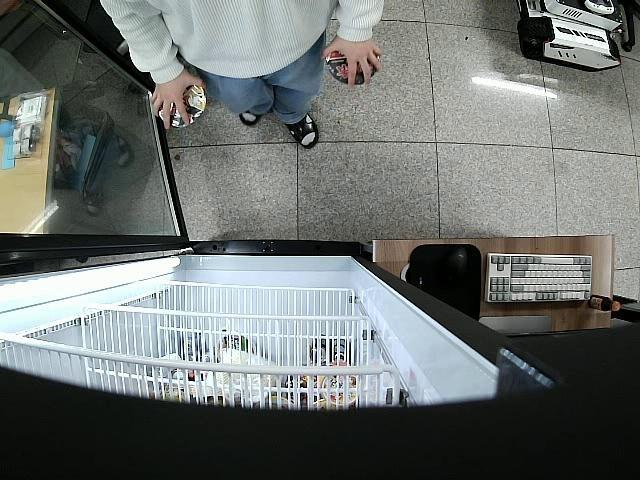07_buldak_L: (148, 79, 205, 128), (326, 34, 379, 85)
